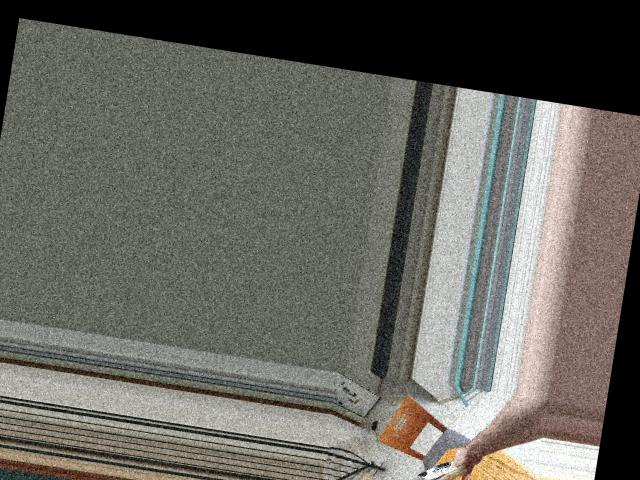cheese: (415, 453, 469, 480)
